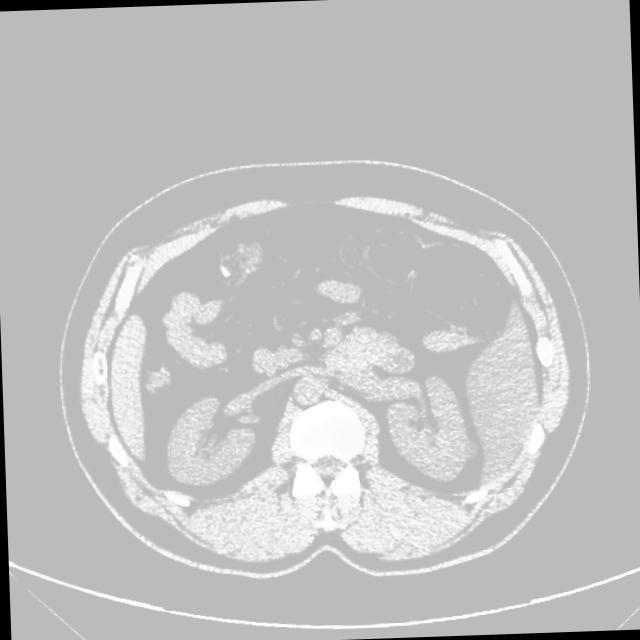cysts: (64, 170, 587, 585)
